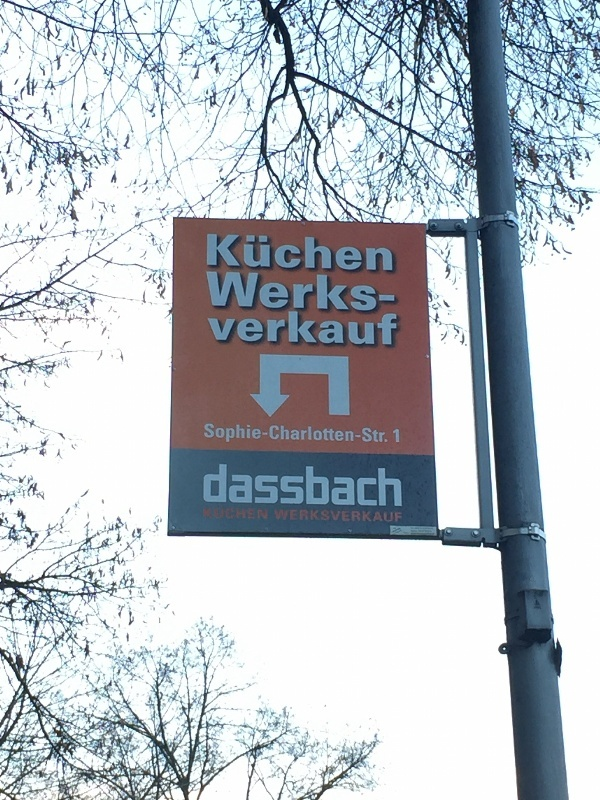text: (209, 306, 224, 349), (225, 306, 240, 349), (241, 306, 256, 349), (257, 306, 272, 349), (273, 306, 288, 349), (289, 306, 304, 349), (305, 306, 320, 349), (321, 306, 336, 349), (337, 306, 352, 349), (353, 306, 368, 349), (369, 306, 384, 349), (209, 465, 224, 507), (225, 465, 240, 507), (241, 465, 256, 507), (257, 465, 272, 507), (273, 465, 288, 507), (289, 465, 304, 507), (305, 465, 320, 507), (321, 465, 336, 507), (337, 465, 352, 507), (353, 465, 368, 507), (369, 465, 384, 507), (385, 465, 400, 507), (209, 272, 224, 313), (225, 272, 240, 313), (241, 272, 256, 313), (257, 272, 272, 313), (273, 272, 288, 313), (289, 272, 304, 313), (305, 272, 320, 313), (321, 272, 336, 313), (337, 272, 352, 313), (353, 272, 368, 313), (369, 272, 384, 313), (209, 234, 224, 272), (225, 234, 240, 272), (241, 234, 256, 272), (257, 234, 272, 272), (273, 234, 288, 272), (289, 234, 304, 272), (305, 234, 320, 272), (321, 234, 336, 272), (337, 234, 352, 272), (353, 234, 368, 272), (369, 234, 384, 272), (385, 306, 398, 349), (385, 272, 396, 313), (385, 234, 393, 272), (209, 424, 224, 443), (225, 424, 240, 443), (241, 424, 256, 443), (257, 424, 272, 443), (273, 424, 288, 443), (289, 424, 304, 443), (305, 424, 320, 443), (321, 424, 336, 443), (337, 424, 352, 443), (353, 424, 368, 443), (369, 424, 384, 443), (202, 306, 208, 349), (289, 509, 304, 521), (305, 509, 320, 521), (321, 509, 336, 521), (337, 509, 352, 521), (353, 509, 368, 521), (369, 509, 384, 521), (385, 509, 400, 521), (209, 507, 224, 519), (225, 507, 240, 519), (241, 507, 256, 519), (274, 509, 288, 521), (257, 507, 268, 519), (205, 465, 208, 507), (401, 465, 403, 507), (394, 429, 400, 443), (206, 272, 208, 313), (204, 424, 208, 443), (203, 507, 208, 519), (385, 424, 388, 443), (393, 527, 400, 534), (207, 234, 208, 272), (401, 527, 403, 534), (401, 509, 402, 521)
